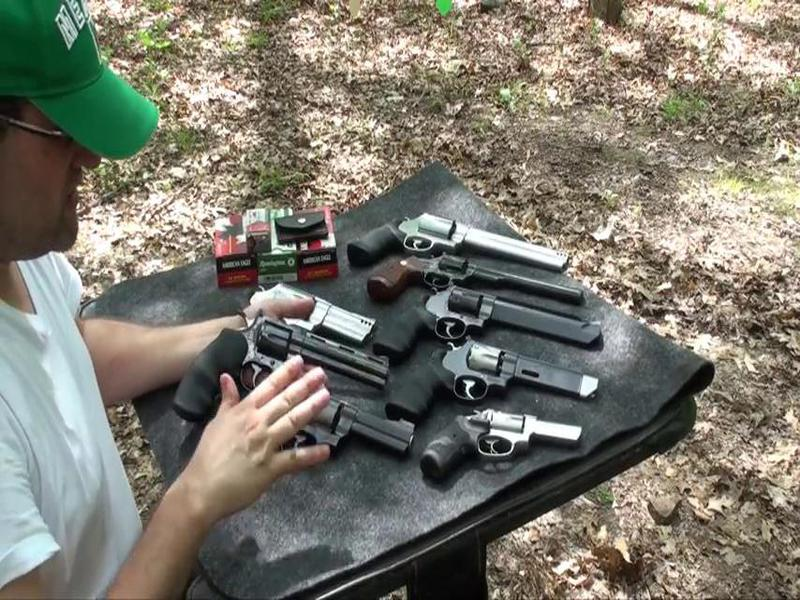Revolver: (166, 305, 388, 443)
